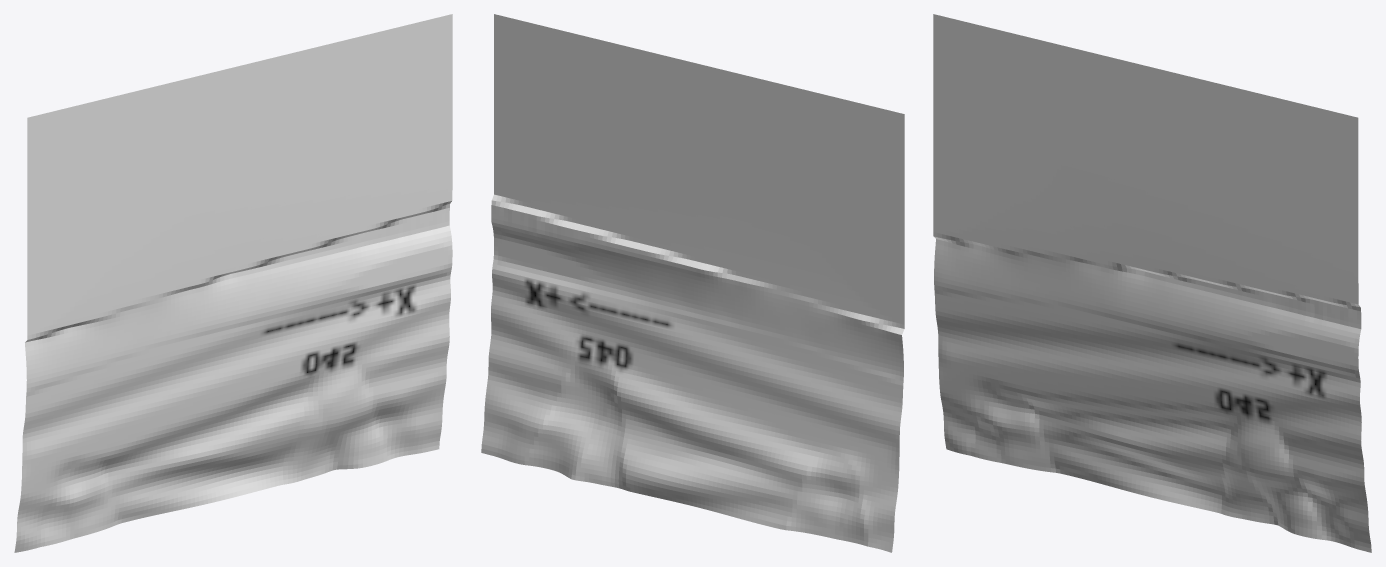
The picture shows the model from 3 angles, left to right: view 1: azimuth 30°, elevation 25°; view 2: azimuth 150°, elevation 25°; view 3: azimuth 330°, elevation 25°; orthographic projection. The views are drawn at different scales.
Visible parts, largest first — view 1: Ground045; view 2: Ground045; view 3: Ground045.
Part boxes in pixels (<box>): Ground045: <box>14,14,452,552</box>; Ground045: <box>481,14,904,552</box>; Ground045: <box>933,14,1371,552</box>.
Size of what is drawn, in the model's own units: 100 by 7.3 by 100.
Materials: 1 (1 with a texture image).
